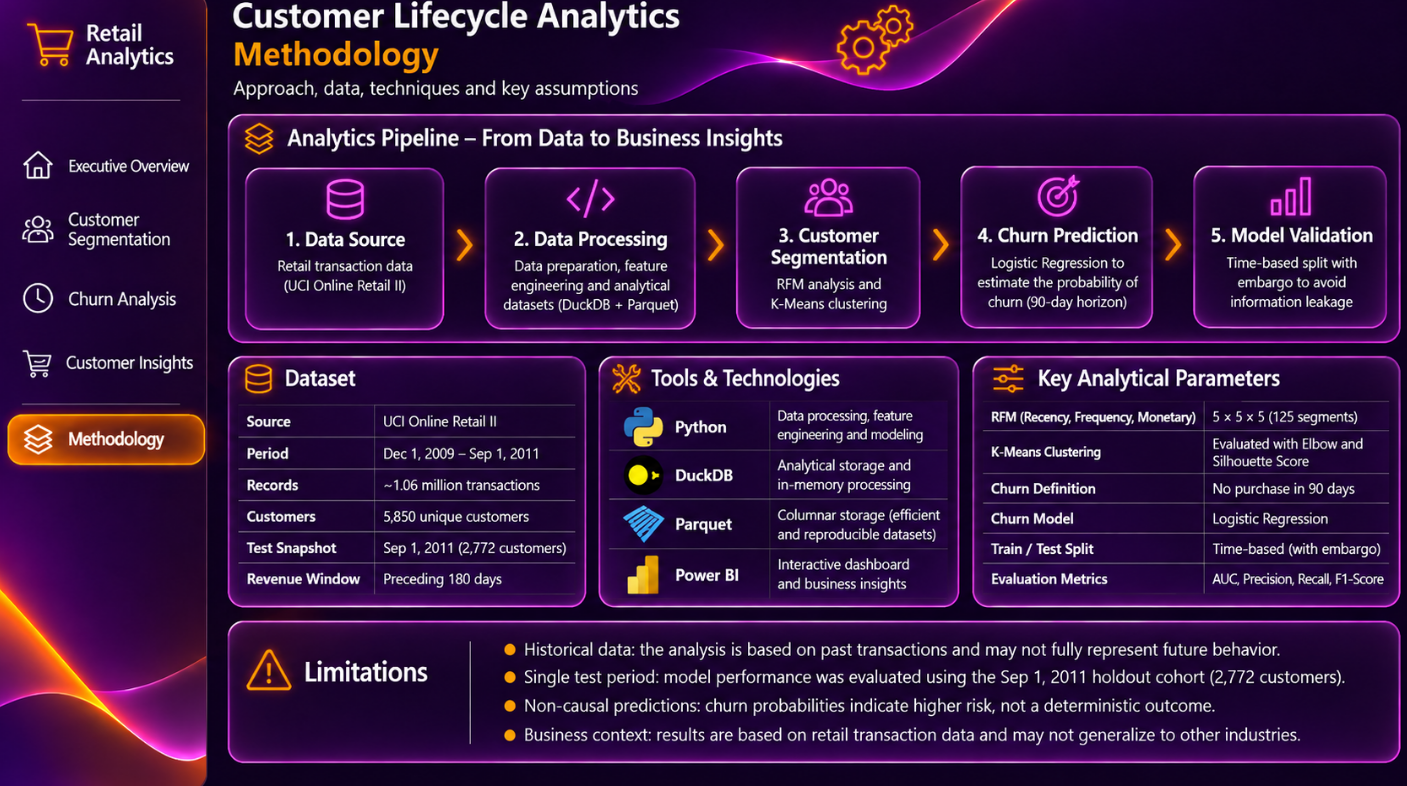

The dashboard page shown, as its layout file describes it:
{"tool":"powerbi","page":{"name":"Methodology","canvas":[1600,900],"ordinal":4},"visuals":[{"type":"actionButton","box":[25.6,174.9,191.5,33.2],"z":0},{"type":"actionButton","box":[25.6,242.8,176.4,42.2],"z":1},{"type":"actionButton","box":[25.6,324.2,191.5,33.2],"z":2},{"type":"actionButton","box":[27.1,396.6,200.6,33.2],"z":3}]}

Visuals, with their boxes on the page's 1600x900 design canvas (x1, y1, x2, y2). These are canvas units, not pixel positions in the 1407x786 screenshot, which may show the page scaled, cropped or inside an application window:
actionButton: 26:175:217:208
actionButton: 26:243:202:285
actionButton: 26:324:217:357
actionButton: 27:397:228:430
